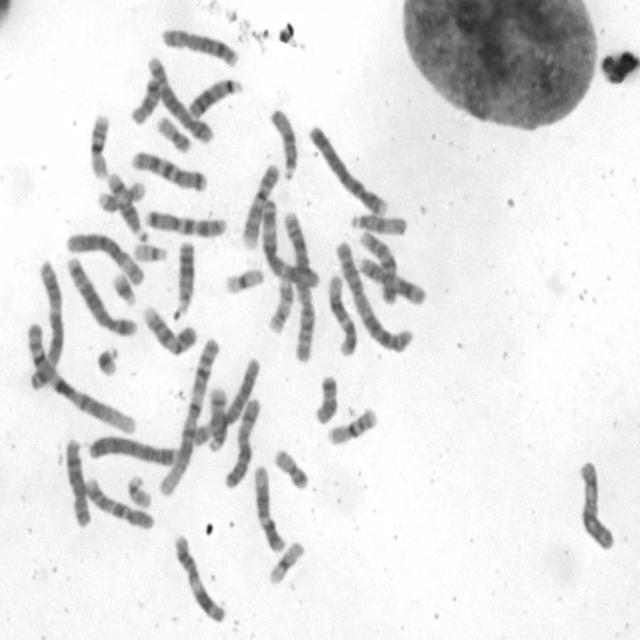A1: (26, 320, 138, 436), (158, 335, 223, 499)
A2: (334, 239, 415, 354), (282, 210, 317, 364)
A3: (260, 198, 322, 290), (29, 258, 65, 392)
B4: (309, 125, 390, 218), (88, 432, 178, 468)
B5: (63, 253, 139, 339), (146, 56, 216, 148)
C10: (82, 475, 158, 532), (357, 228, 400, 306)
C11: (174, 533, 227, 624), (356, 254, 427, 307)
C12: (326, 272, 360, 358), (254, 464, 286, 553)
C6: (192, 357, 261, 448), (66, 229, 147, 288)
C7: (131, 150, 209, 192), (143, 207, 228, 241)
C8: (161, 26, 241, 70), (64, 436, 94, 530)
C9: (240, 162, 280, 252), (142, 304, 199, 357)
D13: (188, 78, 245, 119), (172, 241, 196, 321)
D14: (106, 173, 150, 242), (206, 384, 228, 452)
D15: (269, 107, 299, 181), (348, 210, 410, 237)
E16: (326, 408, 378, 448), (89, 113, 111, 178)
E17: (98, 179, 146, 216), (268, 278, 293, 337)
E18: (130, 78, 162, 125), (315, 375, 340, 425)
F19: (266, 540, 308, 586), (223, 267, 264, 298)
F20: (274, 448, 312, 492), (155, 115, 194, 153)
G21: (93, 344, 123, 379), (112, 272, 137, 309)
G22: (123, 475, 154, 508), (132, 240, 169, 264)
X: (576, 459, 618, 553), (222, 396, 264, 490)
